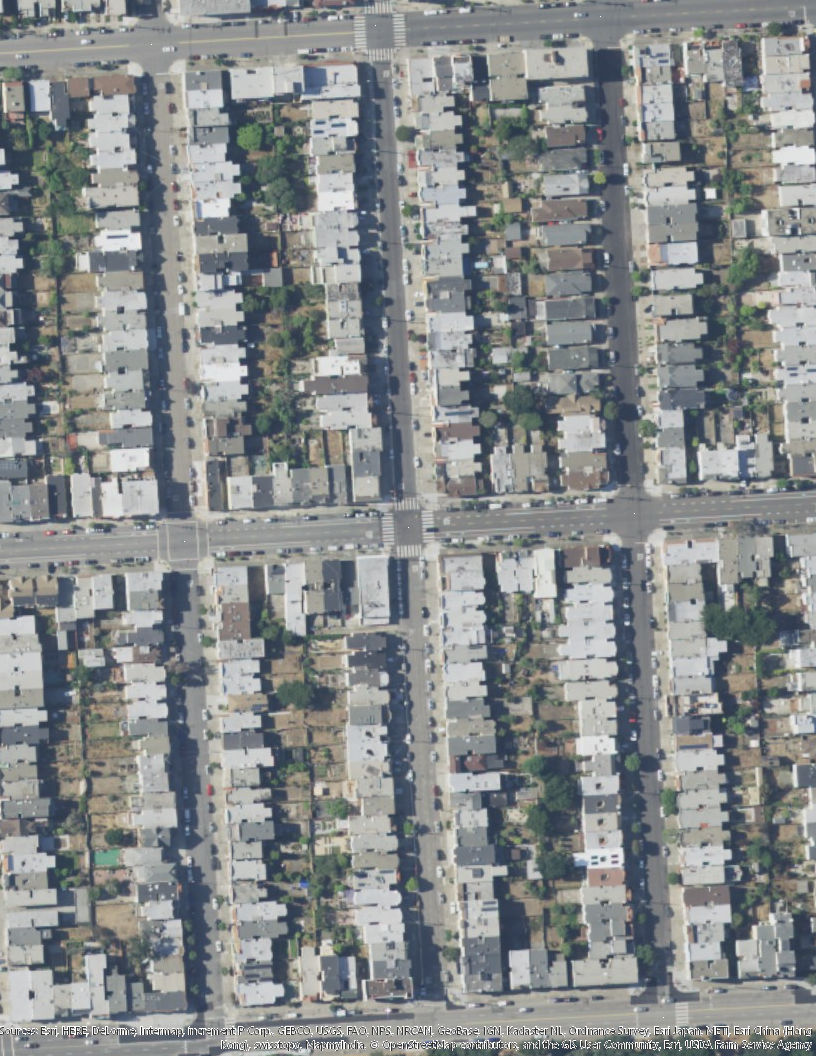zebracross: (420, 510, 439, 543), (352, 14, 367, 52), (379, 512, 395, 547), (392, 13, 408, 47), (362, 1, 394, 17), (674, 1000, 690, 1026), (395, 496, 422, 511), (396, 545, 423, 557), (370, 48, 394, 61)
